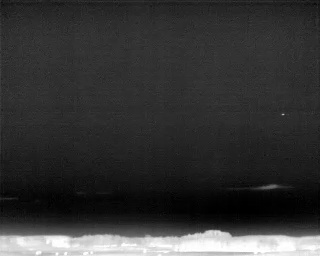BIRD: (279, 111, 287, 119)
